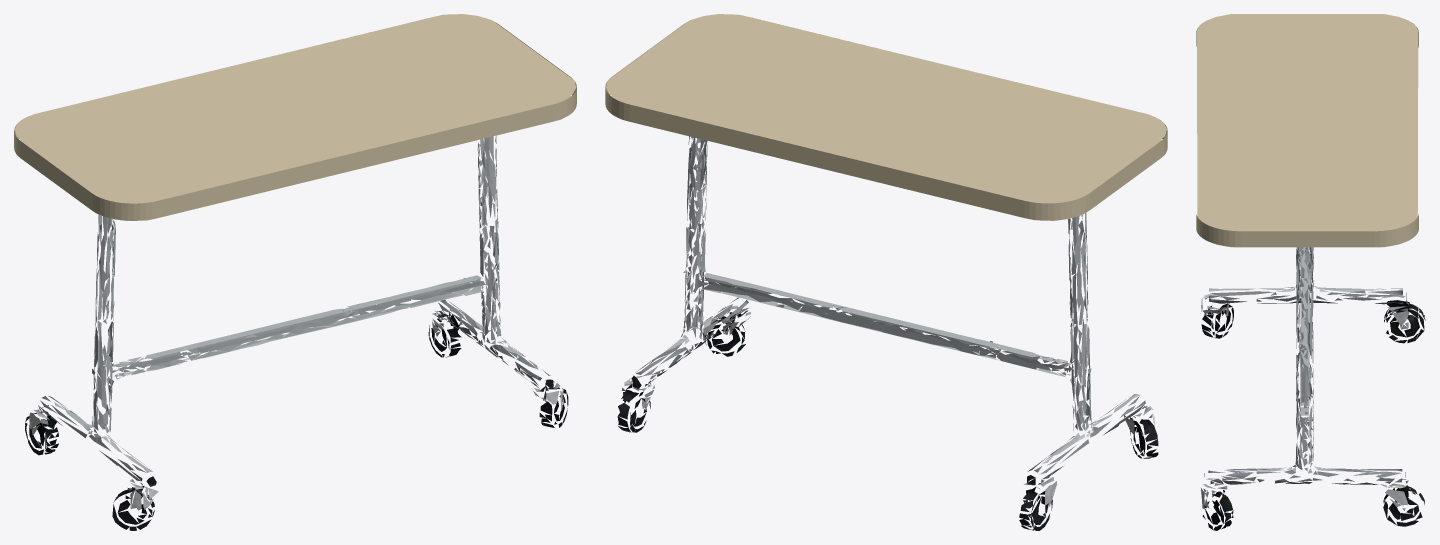
The picture shows the model from 3 angles, left to right: view 1: azimuth 30°, elevation 25°; view 2: azimuth 150°, elevation 25°; view 3: azimuth 270°, elevation 25°; orthographic projection. The views are drawn at different scales.
Visible parts, largest first — view 1: Rounded flat tabletop, geometry_0; view 2: Rounded flat tabletop, geometry_0; view 3: Rounded flat tabletop, geometry_0.
Part boxes in pixels (x1,y1,x2,y2): Rounded flat tabletop: (14, 14, 576, 220); geometry_0: (25, 136, 568, 530); Rounded flat tabletop: (605, 14, 1167, 220); geometry_0: (617, 136, 1158, 530); Rounded flat tabletop: (1196, 14, 1418, 247); geometry_0: (1200, 247, 1425, 530).
Size of the model in its own units: 1.5 by 1 by 0.6699.
Materials: 3 (1 with a texture image).
